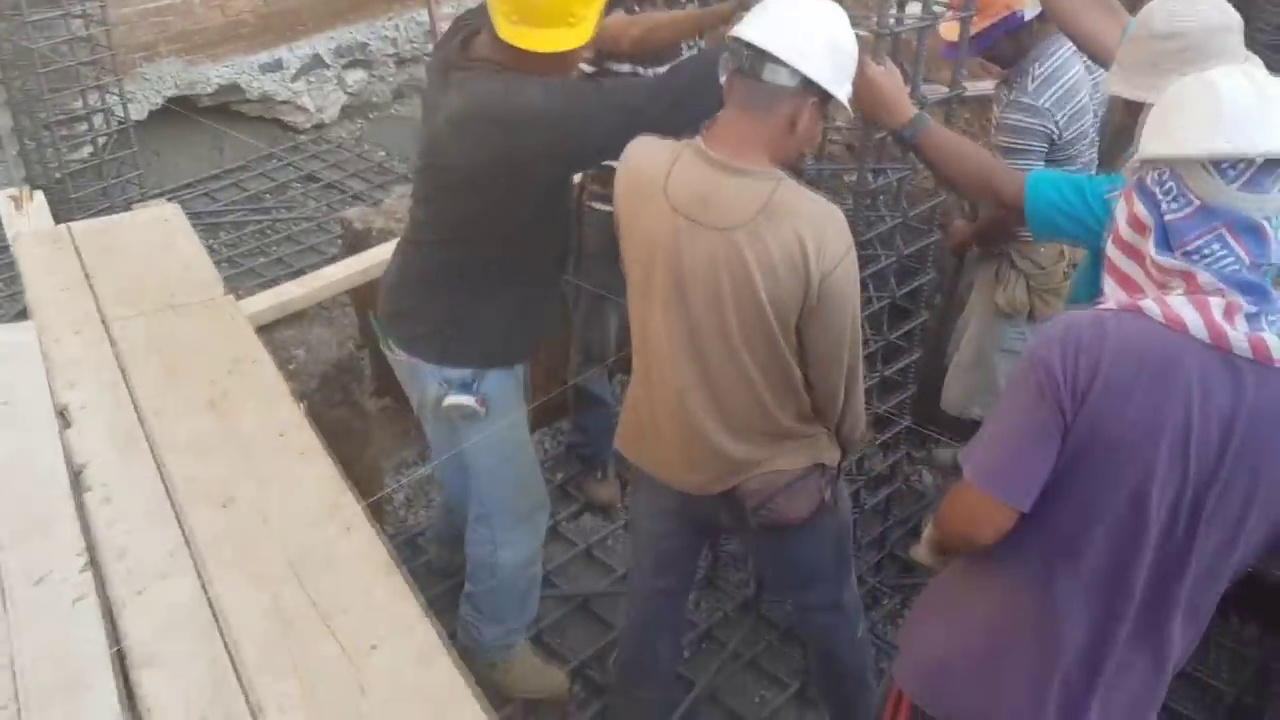helmet: (1132, 64, 1280, 186), (721, 0, 869, 118), (469, 3, 601, 69)
helmet-on: (1134, 63, 1280, 335), (690, 2, 868, 182), (447, 3, 602, 82)
person: (910, 0, 1280, 720), (607, 0, 883, 713), (377, 2, 607, 696), (934, 5, 1119, 437)
